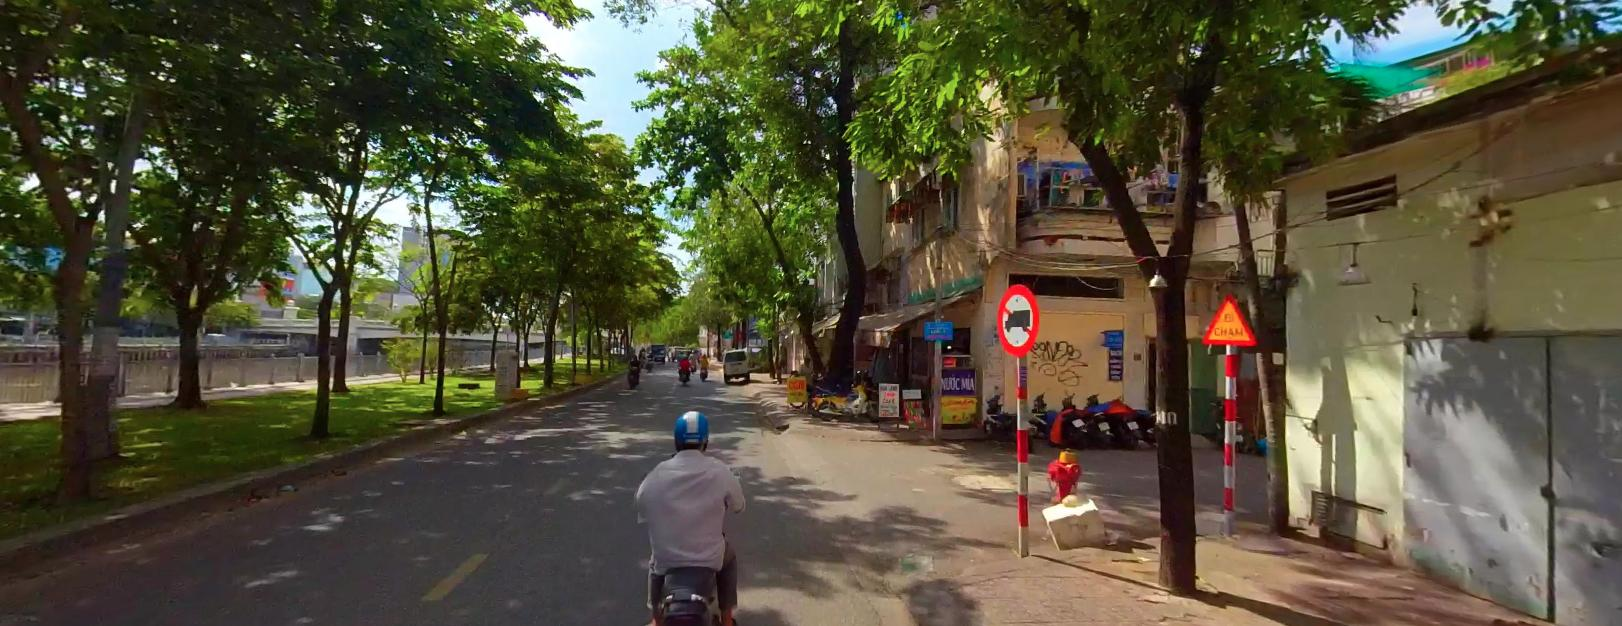Cam con lai: (995, 284, 1038, 356)
Nguy hiem: (1200, 293, 1257, 345)
